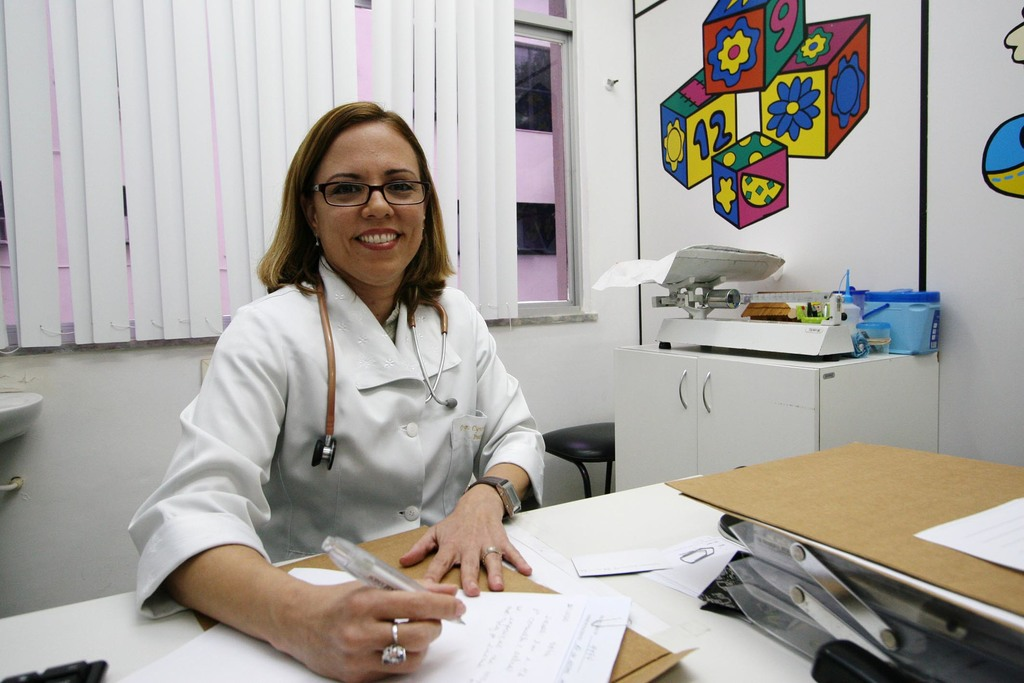Human_hand: (240, 562, 465, 665), (397, 509, 535, 598)
